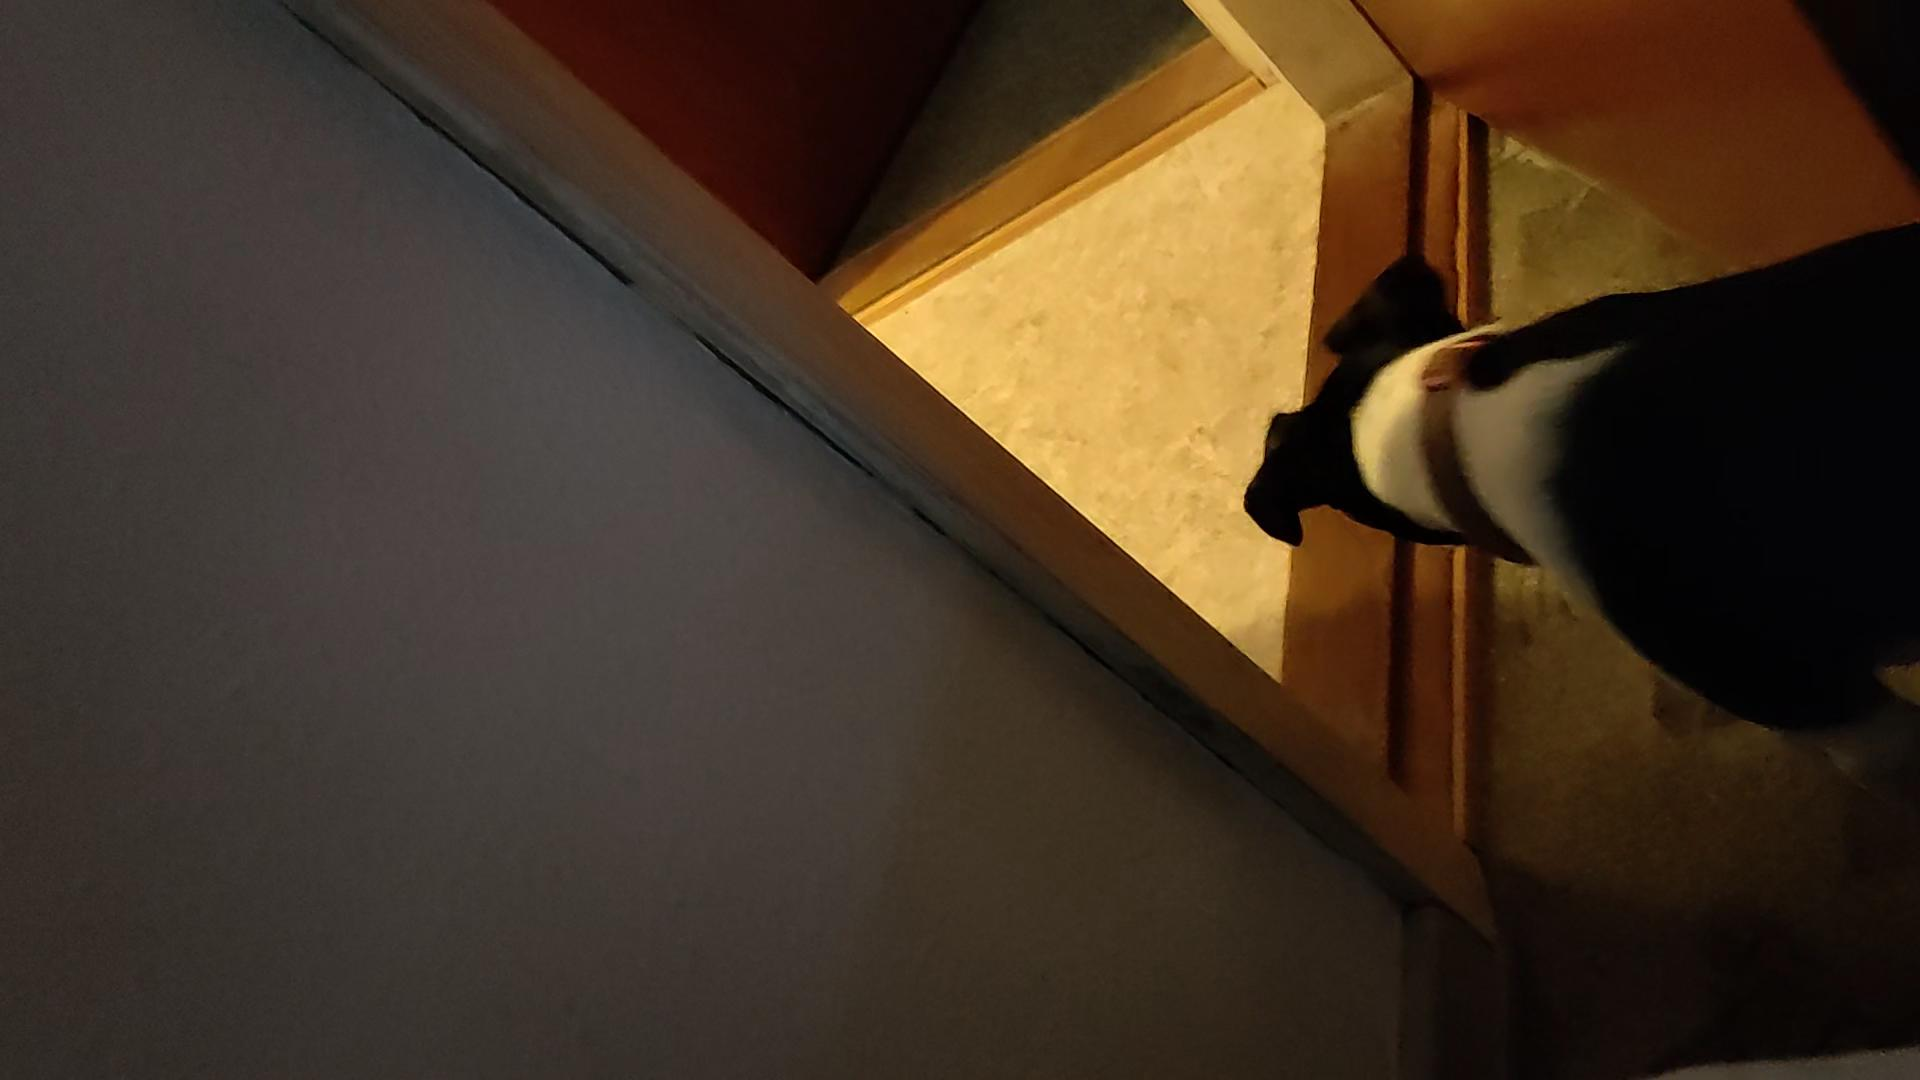Dog: (1230, 202, 1919, 815)
